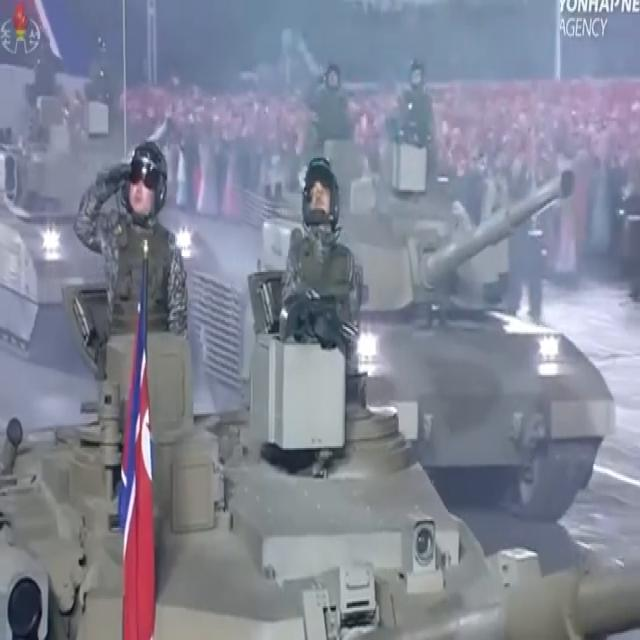north tank: (0, 327, 640, 640), (180, 132, 616, 520), (0, 84, 173, 422)
